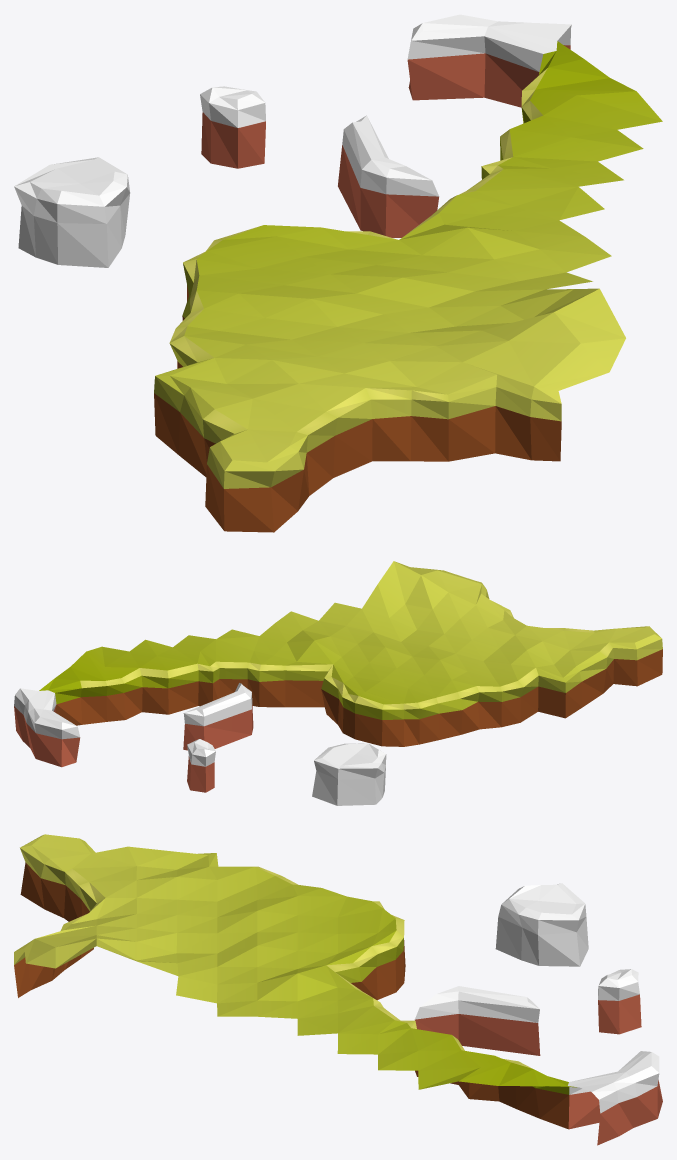
Rendered from europe.glb.
3 renders of one model, top to bottom at view 1: azimuth 30°, elevation 25°; view 2: azimuth 150°, elevation 25°; view 3: azimuth 270°, elevation 25°, orthographic. The views are drawn at different scales.
Visible parts, largest first — view 1: Ground_2_World ap_0.005; view 2: Ground_2_World ap_0.005; view 3: Ground_2_World ap_0.005.
Part boxes in pixels (x1,y1,x2,y2): Ground_2_World ap_0.005: [14, 14, 662, 532]; Ground_2_World ap_0.005: [14, 561, 662, 805]; Ground_2_World ap_0.005: [14, 834, 662, 1145].
Bounding box in the file's own units: 4.34 × 0.6721 × 4.49.
1 material, 1 textured.
